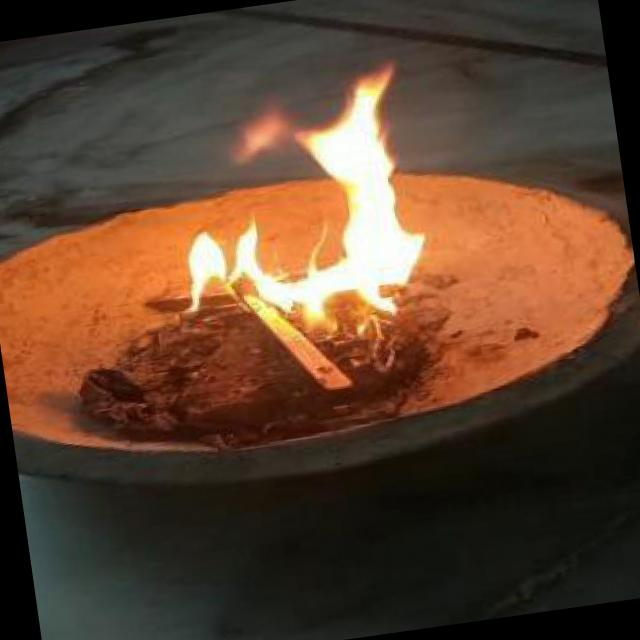fire: (145, 49, 478, 350)
